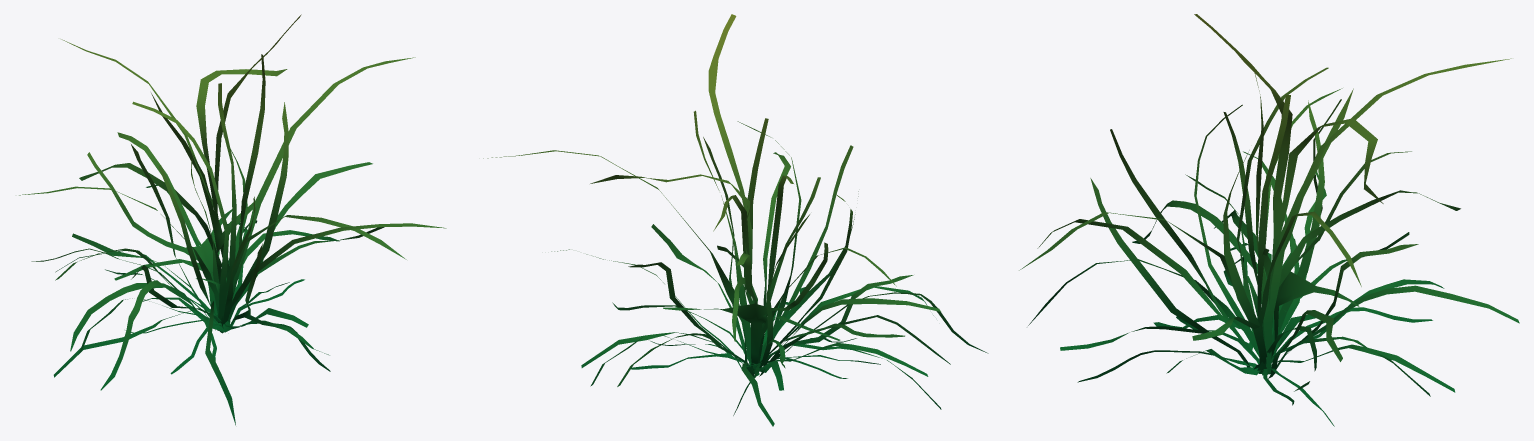
File: grass_medium_01_6.glb
The picture shows the model from 3 angles, left to right: view 1: azimuth 30°, elevation 25°; view 2: azimuth 150°, elevation 25°; view 3: azimuth 270°, elevation 25°; orthographic projection. The views are drawn at different scales.
Parts seen in each view (by area): view 1: grass_medium_01_small_a_LOD0; view 2: grass_medium_01_small_a_LOD0; view 3: grass_medium_01_small_a_LOD0.
Boxes of the visible parts, box(x1,y1,x2,y2) form: grass_medium_01_small_a_LOD0: box(19, 14, 446, 425); grass_medium_01_small_a_LOD0: box(483, 14, 988, 426); grass_medium_01_small_a_LOD0: box(1019, 14, 1519, 426).
Bounding box in the file's own units: 0.1848 × 0.1404 × 0.1623.
